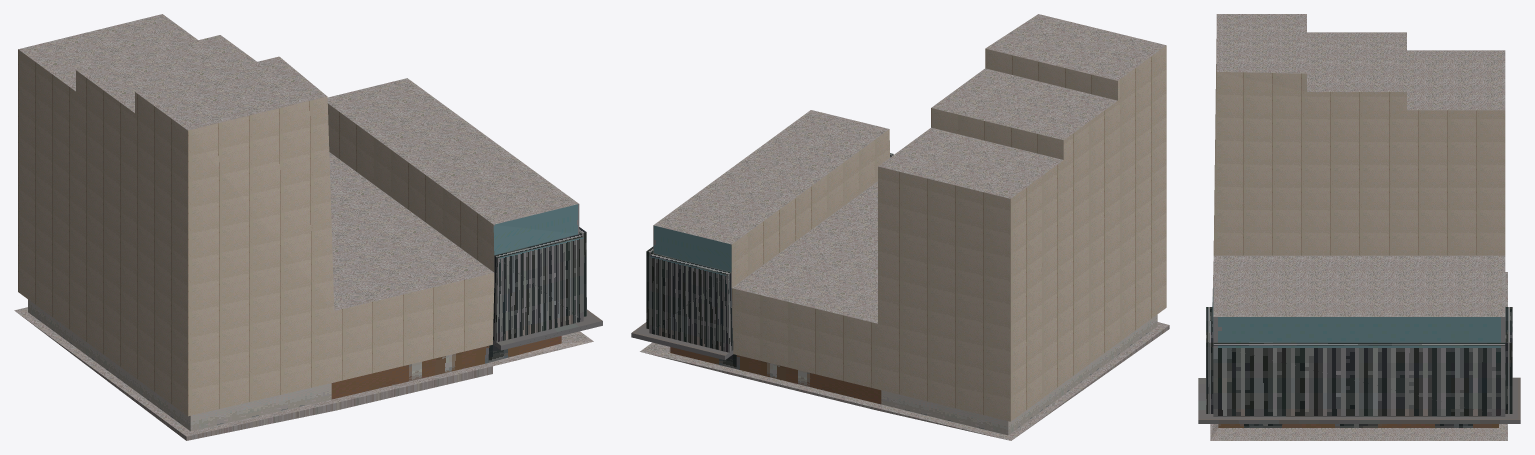
Rendered from lodhotel01_lvs.obj.
3 renders of one model, left to right at view 1: azimuth 30°, elevation 25°; view 2: azimuth 150°, elevation 25°; view 3: azimuth 270°, elevation 25°, orthographic. The views are drawn at different scales.
Parts seen in each view (by area): view 1: lodhotel01_lvs; view 2: lodhotel01_lvs; view 3: lodhotel01_lvs.
Part boxes in pixels (x1=…): lodhotel01_lvs: x1=14, y1=14, x2=602, y2=440; lodhotel01_lvs: x1=631, y1=14, x2=1169, y2=440; lodhotel01_lvs: x1=1198, y1=14, x2=1520, y2=440.
Size of the model in its own units: 80.34 by 59.33 by 64.94.
Materials: 4 (4 with a texture image).
